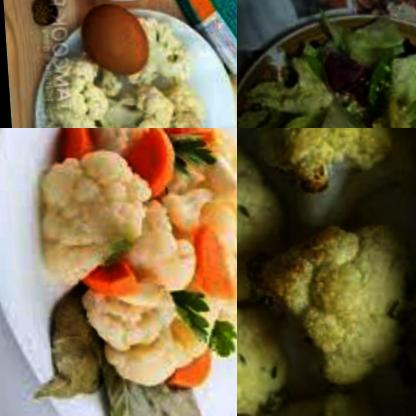cayliflower: (237, 219, 416, 390), (28, 143, 161, 286), (20, 59, 234, 128), (85, 276, 206, 393), (122, 175, 227, 306), (249, 128, 409, 194), (237, 136, 294, 304), (200, 138, 237, 303), (237, 291, 284, 416), (129, 12, 198, 94), (248, 378, 392, 416), (75, 128, 156, 148), (119, 128, 200, 146)
salad: (237, 32, 416, 128)
